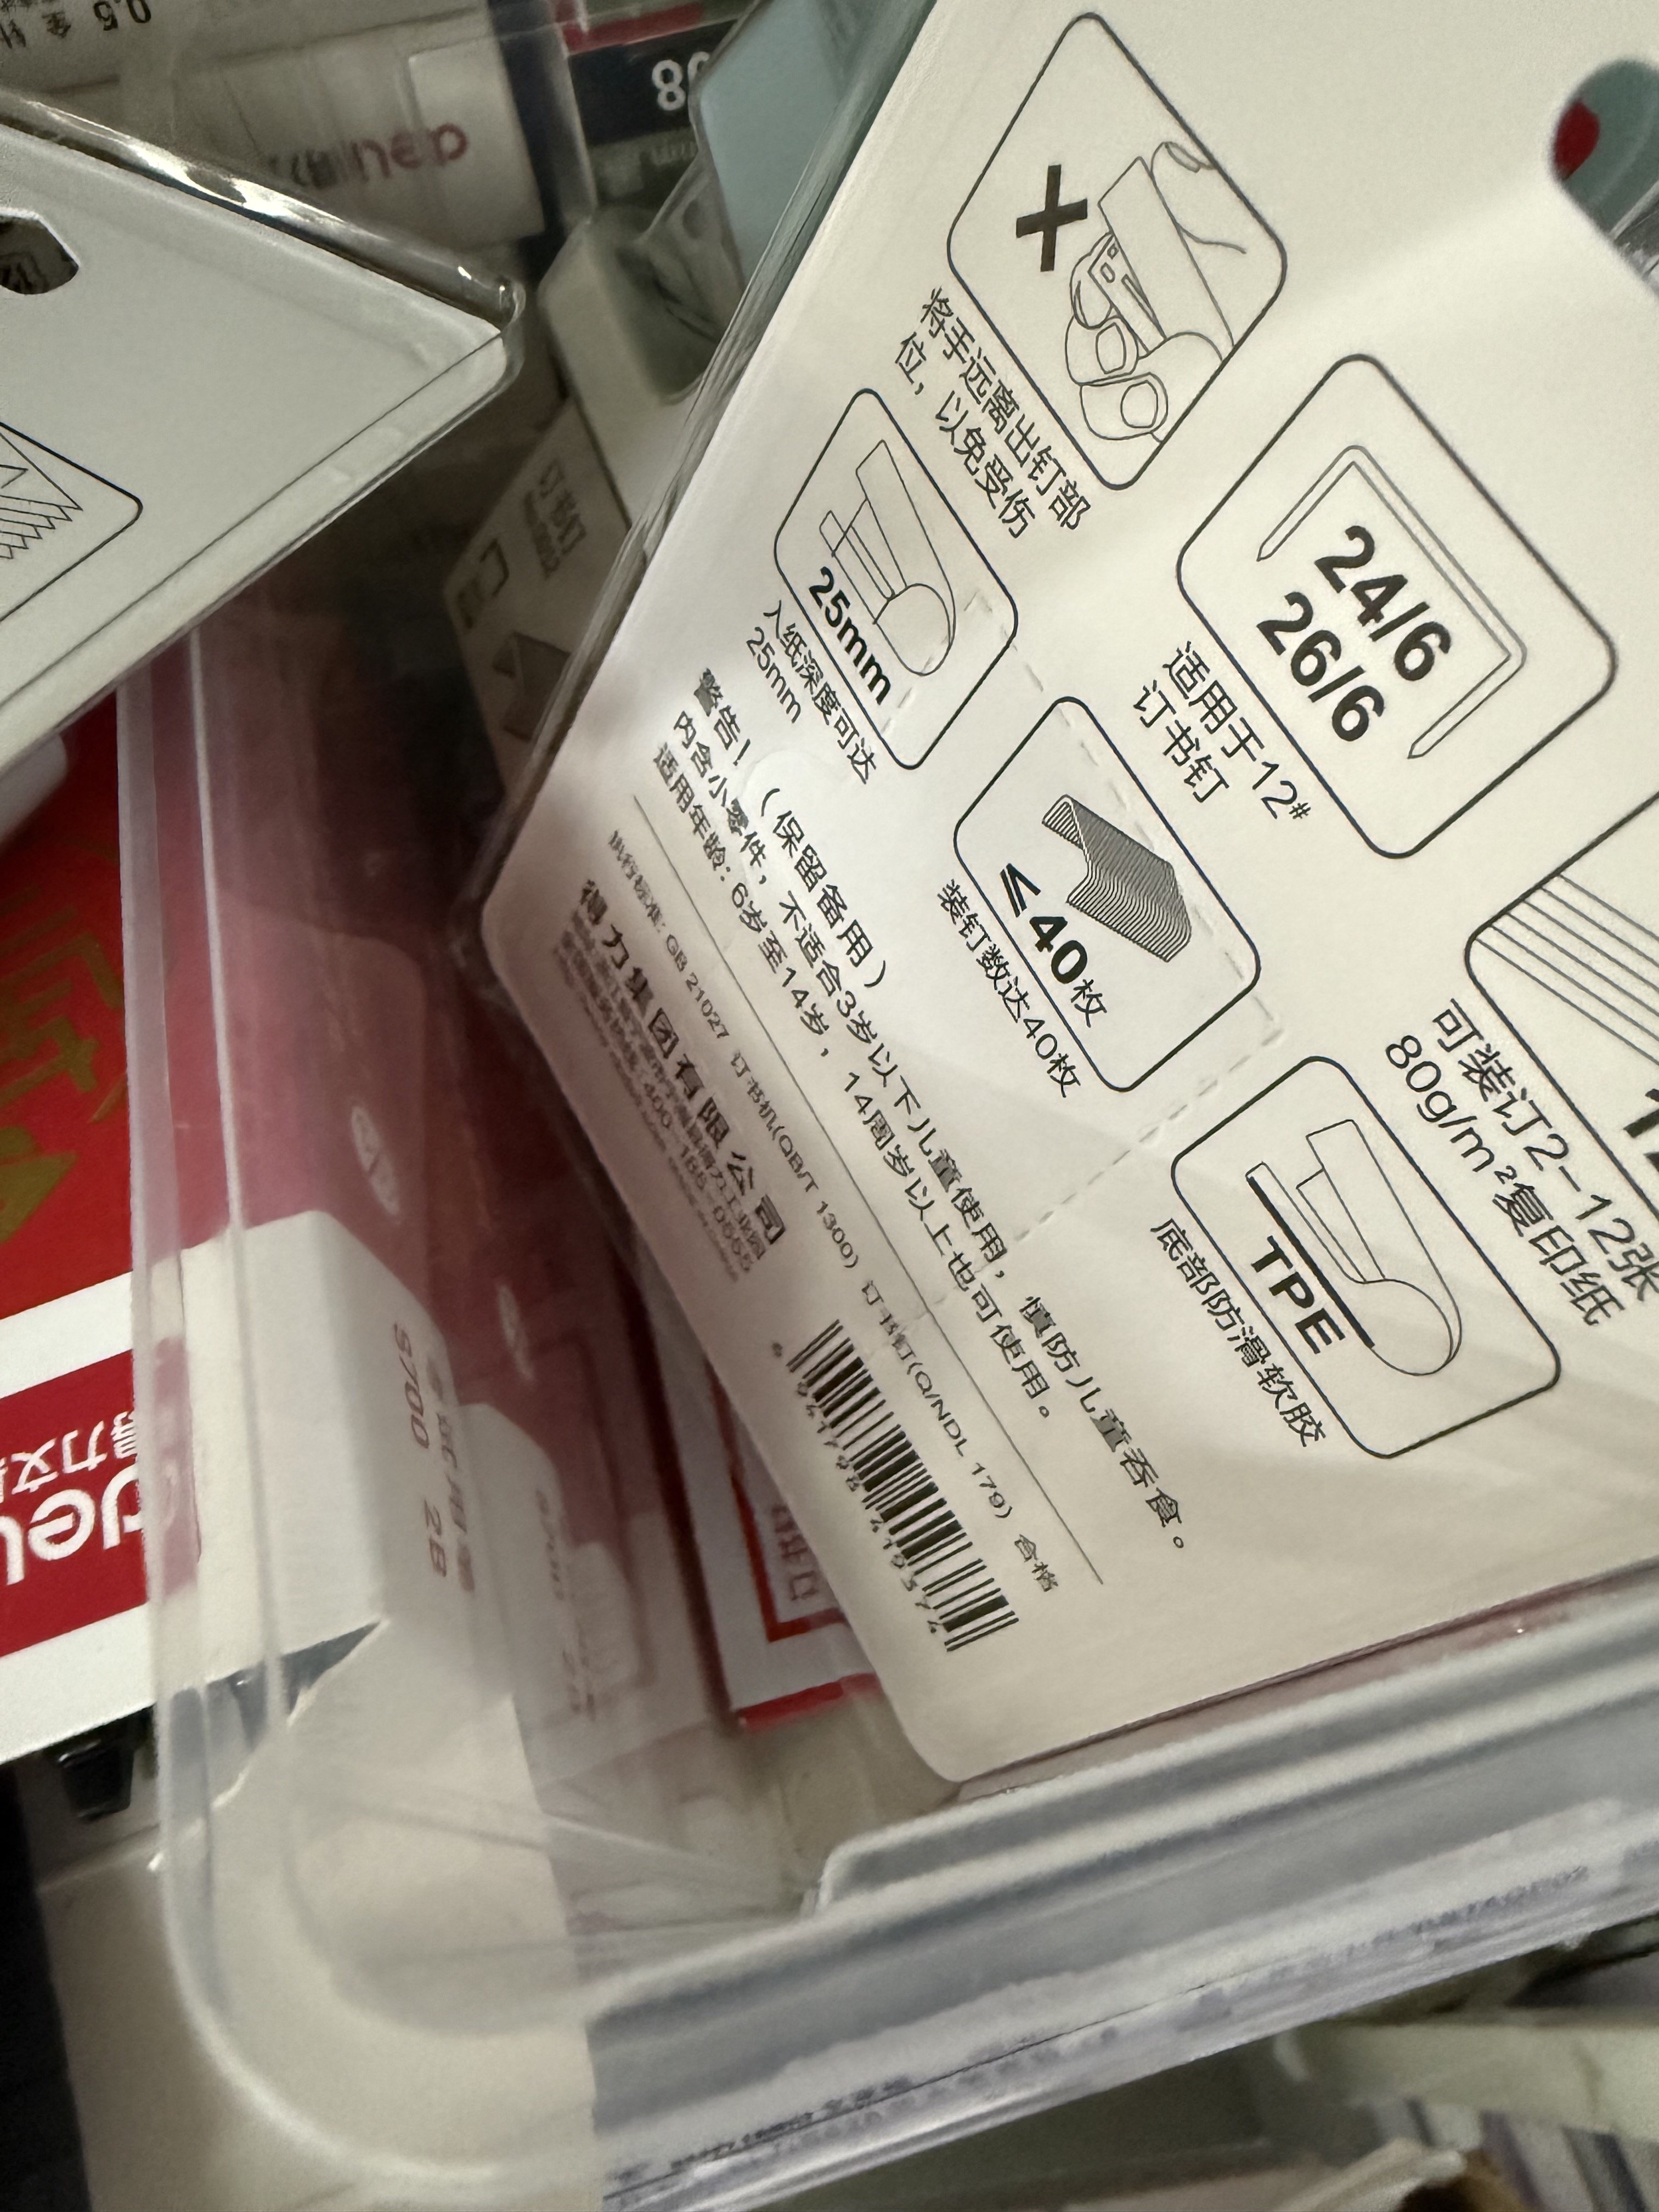bar: (775, 1312, 1023, 1655)
